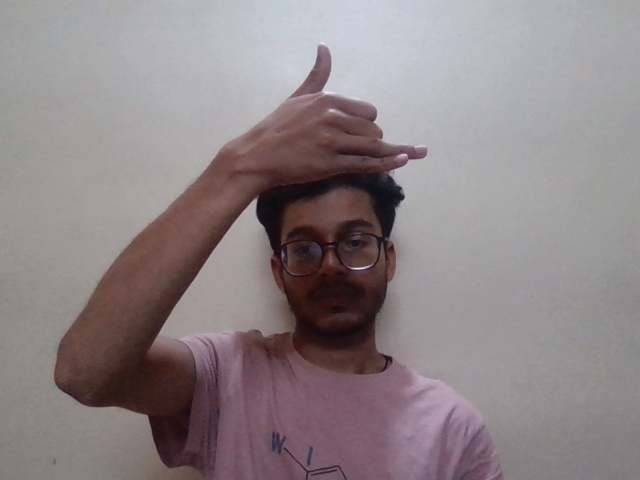project: (197, 39, 434, 193)
